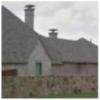chimneys: (23, 3, 36, 31), (48, 29, 59, 39)
